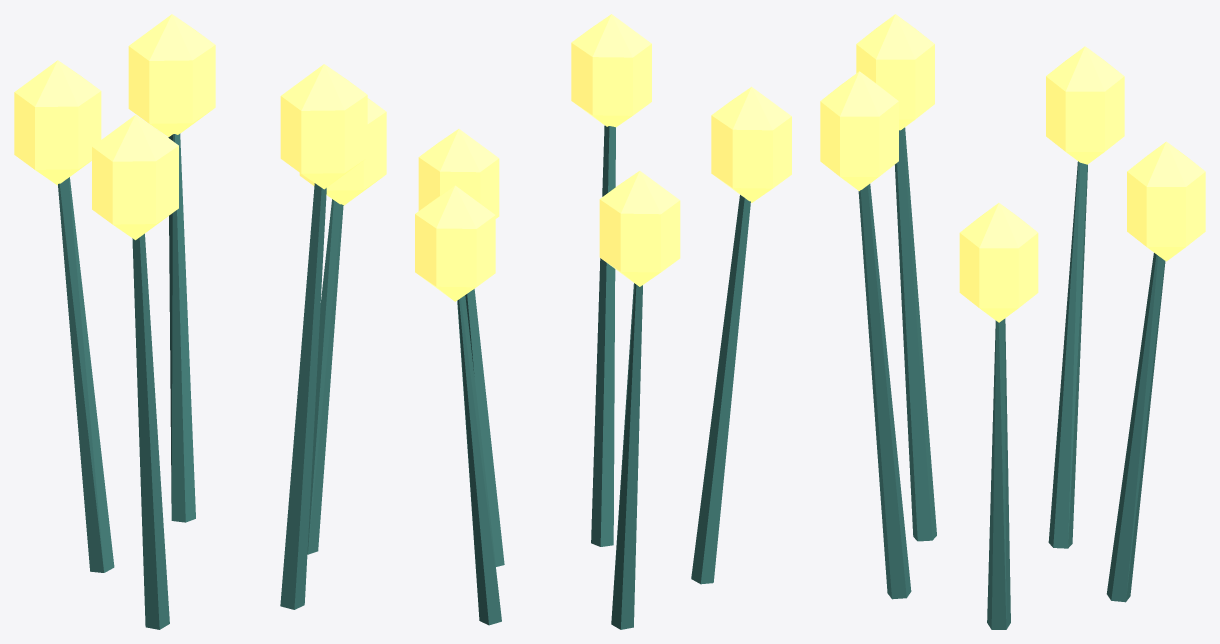
File: Nature_Glow_Reeds_03.glb
3 views of the same model, side by side, from view 1: azimuth 30°, elevation 25°; view 2: azimuth 150°, elevation 25°; view 3: azimuth 270°, elevation 25° (orthographic). The views are drawn at different scales.
Parts seen in each view (by area): view 1: Nature_Glow_Reeds_03; view 2: Nature_Glow_Reeds_03; view 3: Nature_Glow_Reeds_03.
Boxes of the visible parts, x1,y1,x2,y2 form: Nature_Glow_Reeds_03: (14,14,386,629); Nature_Glow_Reeds_03: (415,14,791,629); Nature_Glow_Reeds_03: (820,14,1205,629).
Size of the model in its own units: 0.5189 by 0.8366 by 0.552.
